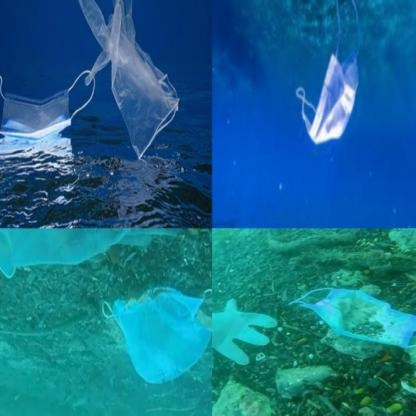Mask: (93, 278, 212, 404), (293, 1, 369, 150), (284, 280, 414, 354), (0, 58, 92, 138)
glove: (75, 0, 181, 165), (0, 228, 198, 270), (213, 295, 276, 366)
